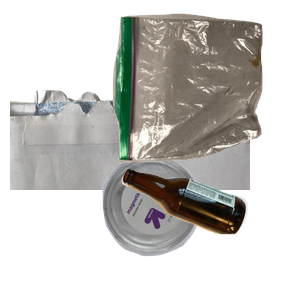glass: (119, 166, 300, 300)
paper: (10, 84, 250, 264)
plastic: (100, 152, 293, 300)
trash: (110, 11, 300, 167)
